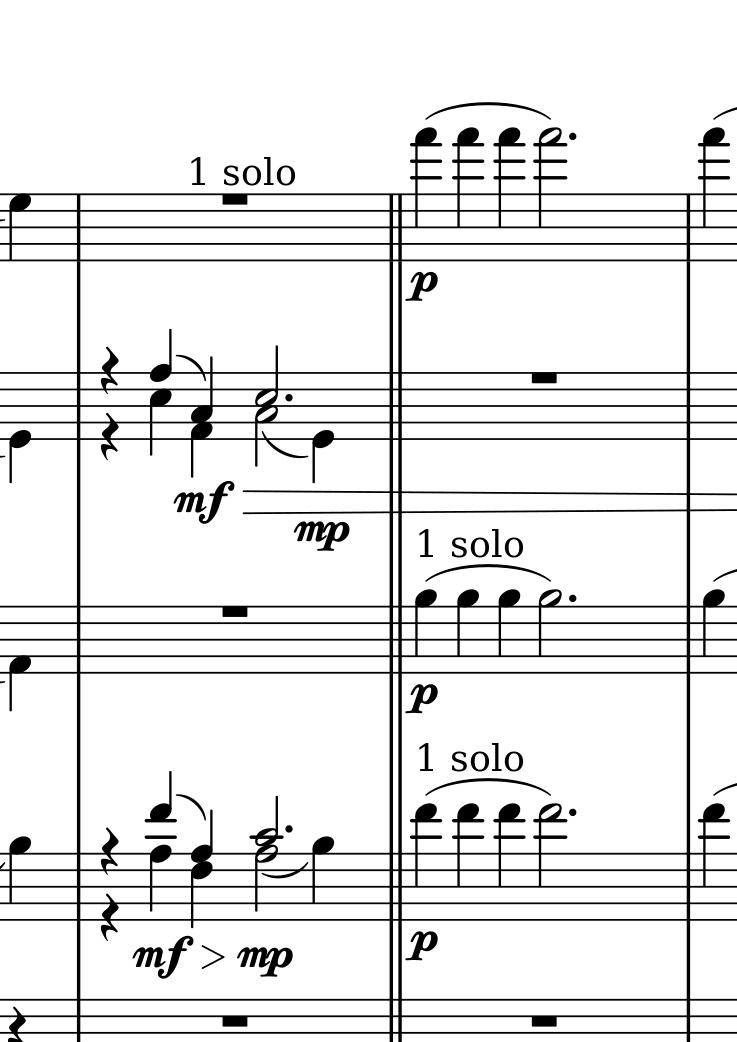2_13: (534, 803, 563, 922)
2_15: (535, 126, 564, 264)
2_3_5: (254, 345, 280, 469)
2_8_10: (253, 795, 281, 923)
2_9: (535, 589, 564, 675)
4_0: (309, 367, 335, 485), (6, 429, 32, 485)
4_1: (8, 601, 34, 713)
4_13: (409, 802, 438, 923), (699, 801, 727, 922), (455, 803, 482, 923), (497, 803, 521, 923)
4_15: (410, 125, 443, 261), (699, 127, 728, 264), (496, 127, 524, 264), (453, 124, 479, 264)
4_1_3: (189, 356, 214, 477)
4_5_8: (147, 328, 174, 458)
4_6_8: (190, 809, 214, 930)
4_7: (7, 190, 36, 264)
4_8_13: (148, 770, 175, 922)
4_9: (7, 833, 34, 923), (454, 589, 482, 675), (495, 589, 522, 675), (413, 585, 439, 673), (311, 835, 336, 921), (702, 589, 724, 676)
Diminuendo_hairpin: (199, 943, 223, 971)
Double_barline: (379, 605, 411, 674), (382, 372, 411, 437), (382, 853, 410, 920), (381, 193, 408, 262)
Rests1: (524, 1009, 561, 1031), (217, 189, 254, 209), (215, 1011, 256, 1029), (220, 600, 251, 621), (527, 368, 563, 385)
Rests4: (97, 826, 120, 882), (99, 342, 121, 395), (98, 893, 120, 944), (99, 410, 119, 465)
Single_barline: (678, 371, 702, 440), (678, 852, 700, 920), (68, 192, 89, 261), (69, 371, 90, 440), (70, 606, 91, 673), (678, 604, 698, 674), (70, 852, 89, 920)
Slur: (424, 101, 551, 123), (427, 778, 553, 799), (424, 564, 554, 583), (261, 428, 307, 461), (175, 791, 207, 822), (262, 862, 307, 882), (175, 352, 206, 381)
Solo: (450, 523, 525, 560), (222, 153, 296, 186), (452, 740, 522, 773)
dot: (282, 386, 297, 408), (567, 591, 582, 610), (281, 823, 295, 837), (567, 128, 579, 144), (567, 807, 581, 819)
mf: (127, 935, 197, 984), (173, 478, 238, 526)
mp: (235, 938, 305, 987), (293, 515, 356, 554)
p: (404, 928, 442, 968), (405, 265, 444, 301), (405, 679, 440, 719)
